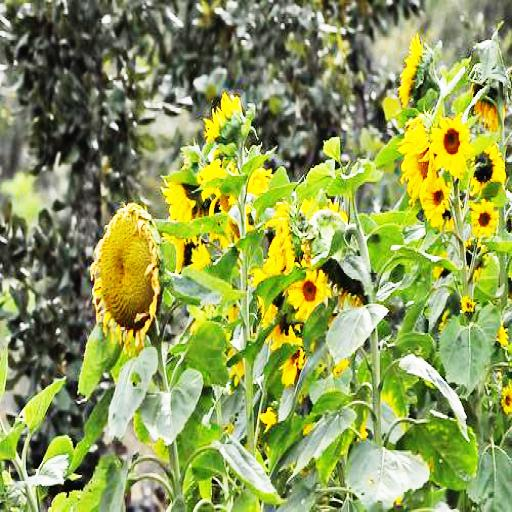sunflower: (91, 205, 161, 352), (432, 114, 469, 174), (290, 270, 330, 316), (469, 145, 504, 194), (470, 199, 497, 239)
